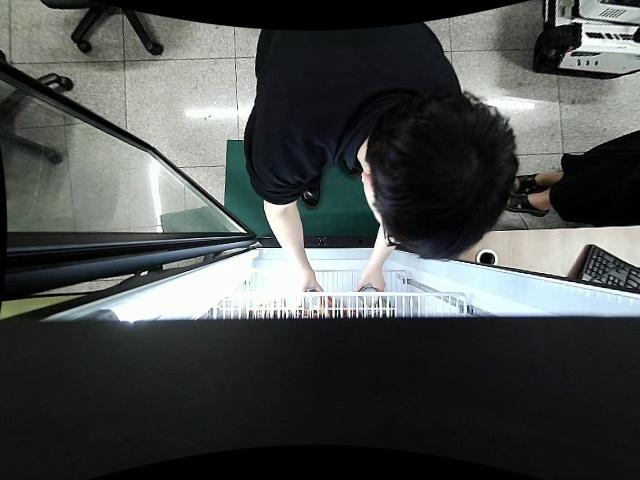00_hand: (353, 267, 386, 295)
